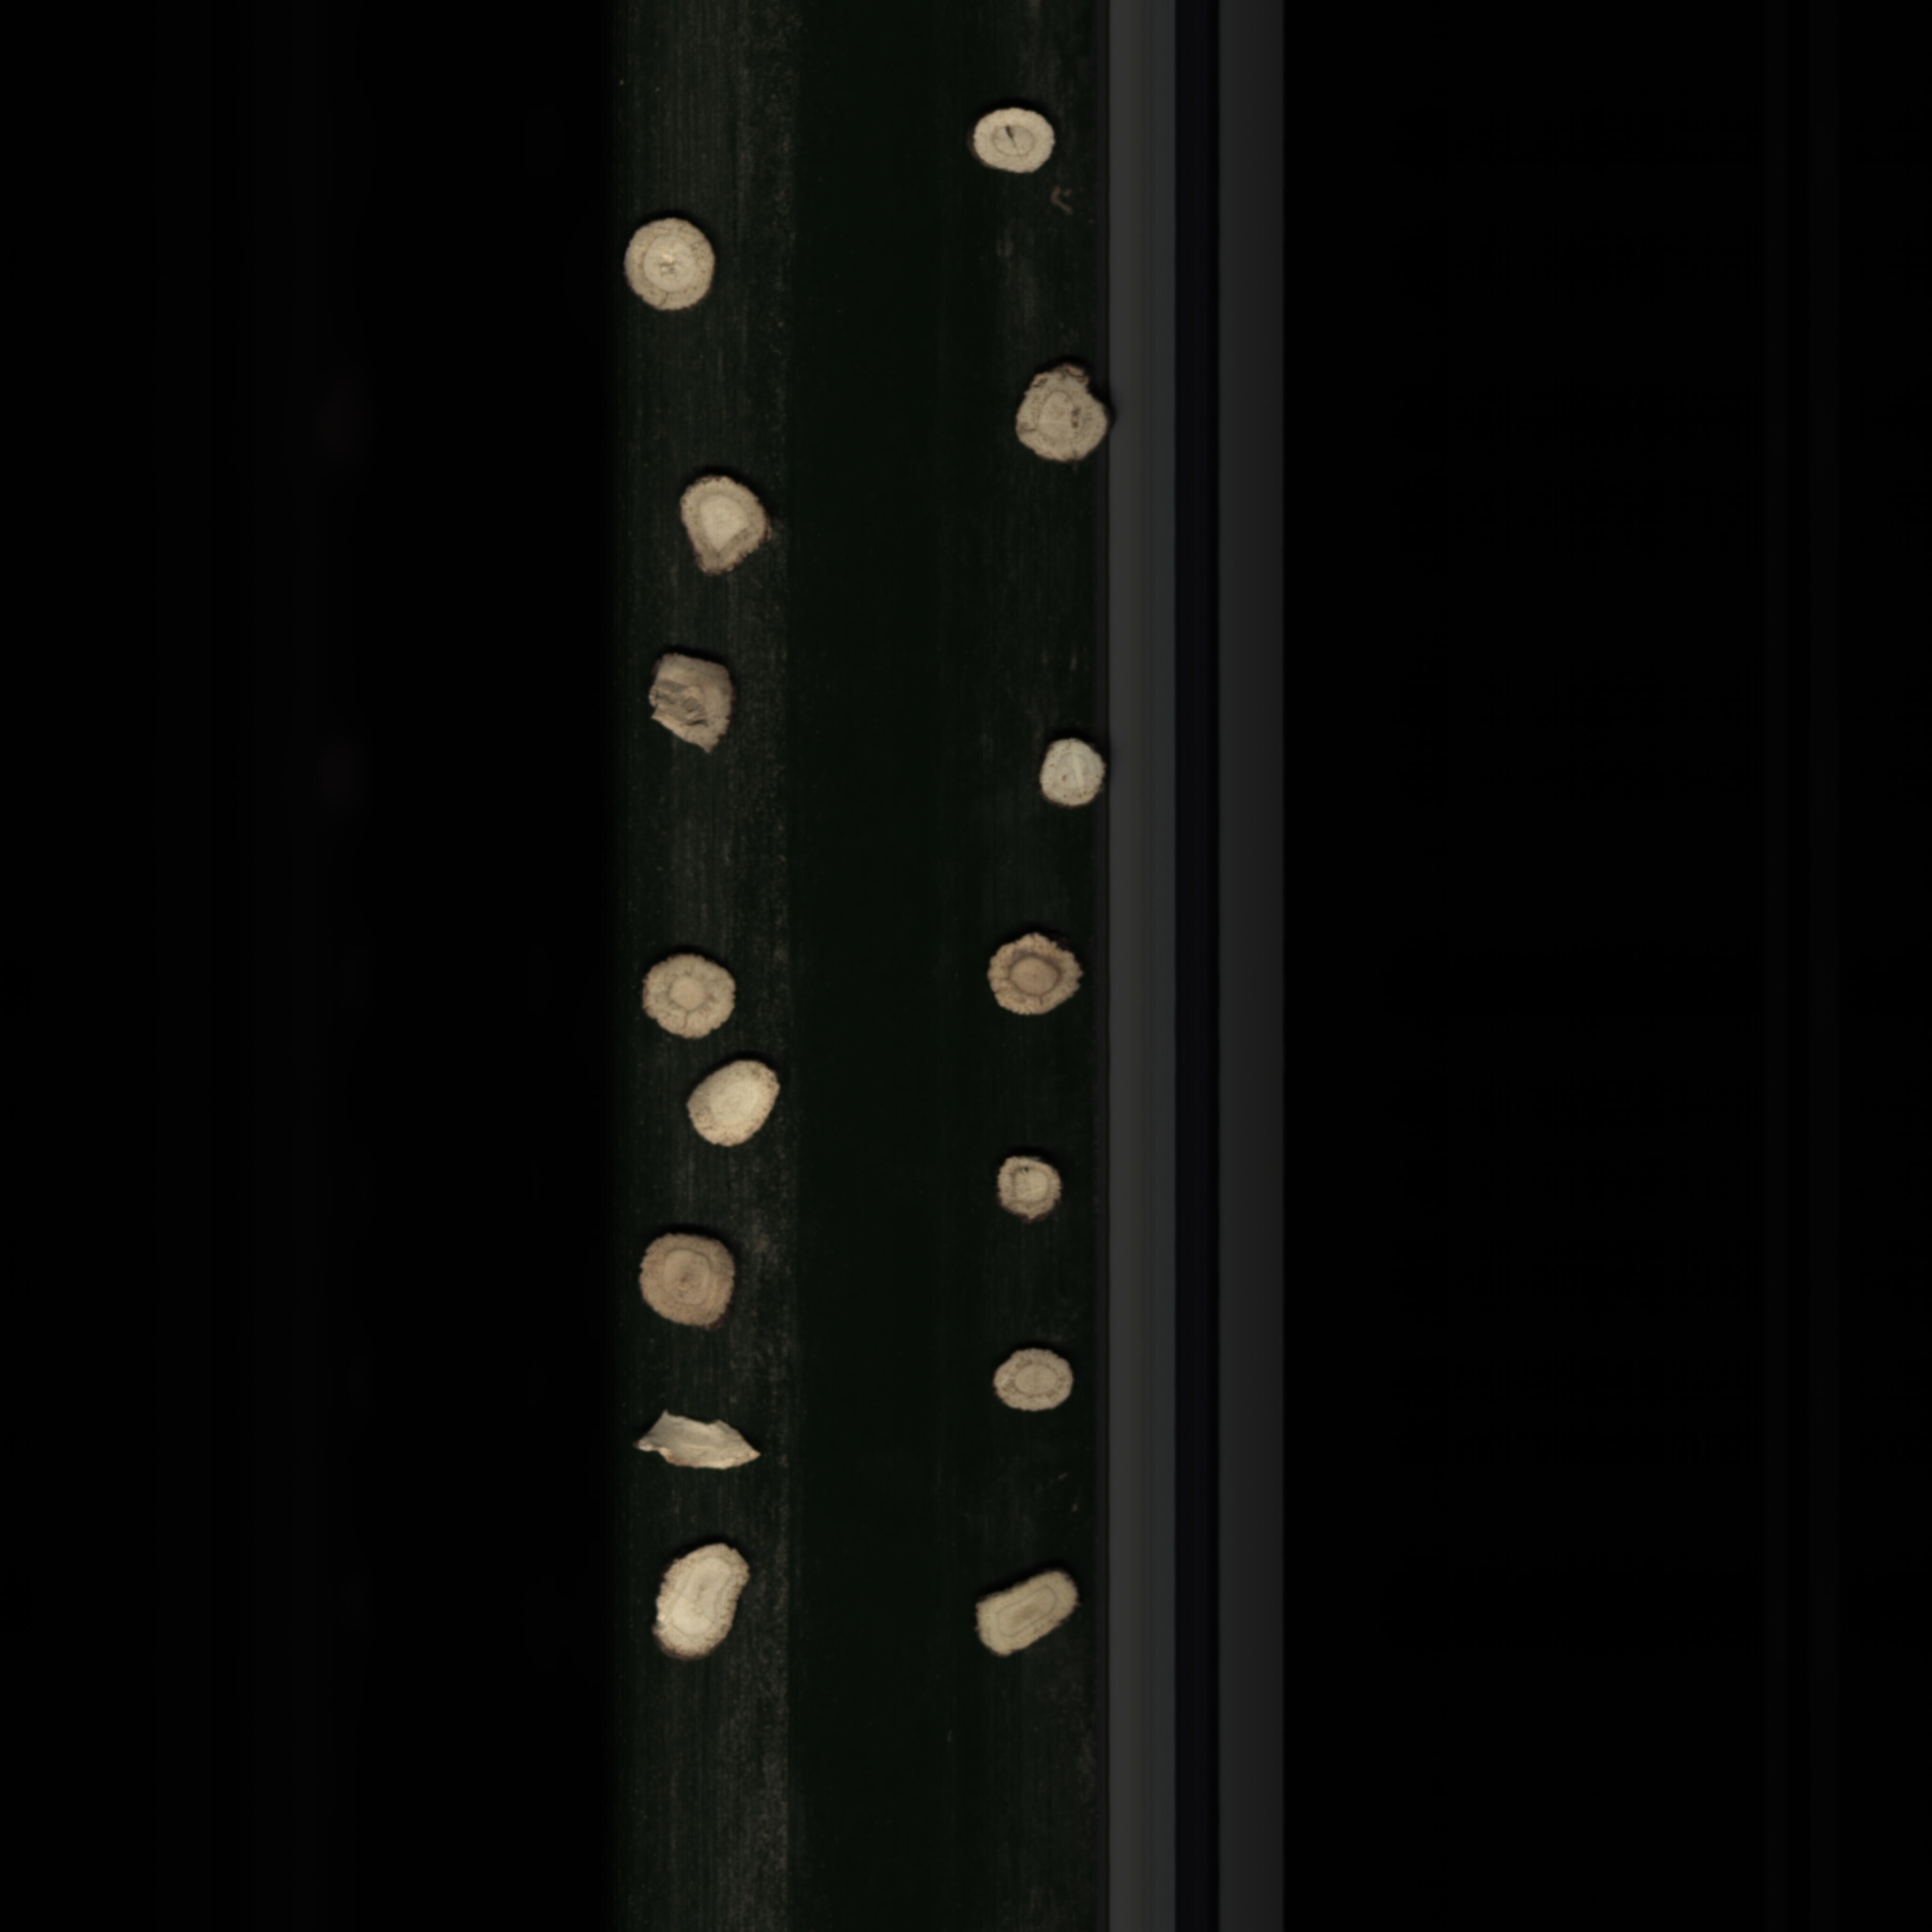debris: (635, 633, 741, 775), (628, 1405, 777, 1486)
distortion: (971, 1568, 1081, 1667)
hole: (962, 108, 1065, 180)
moldy: (635, 1226, 741, 1334), (975, 929, 1090, 1026)
